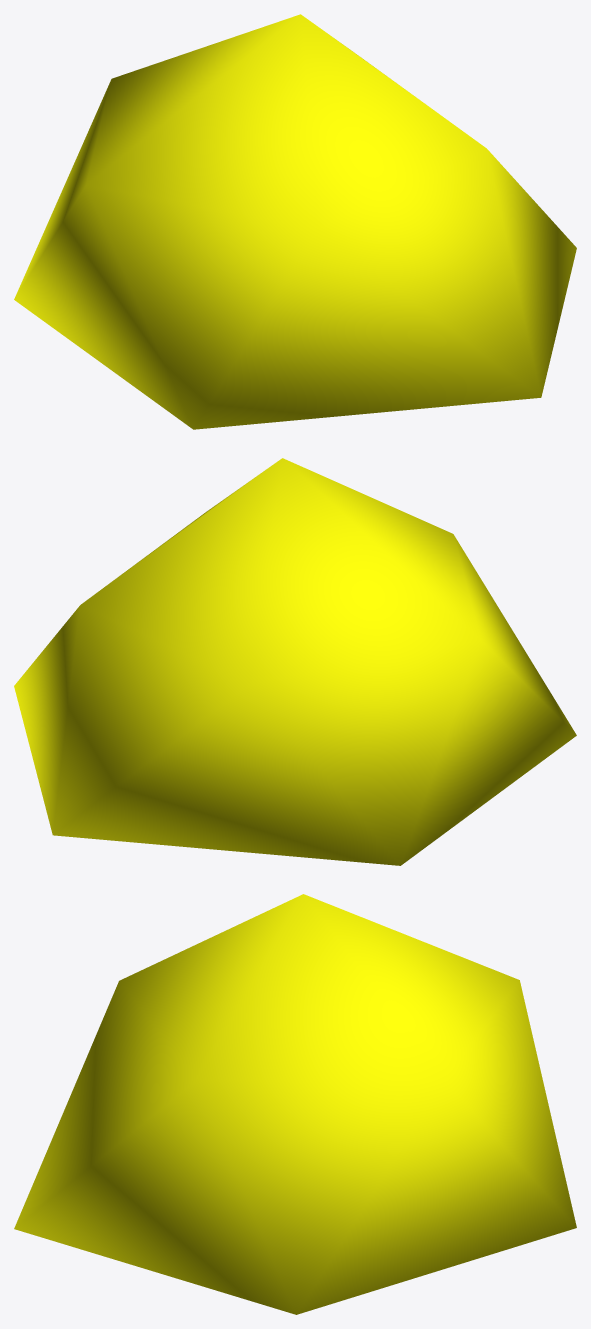
File: kaykit-trash-b.glb
The picture shows the model from 3 angles, top to bottom: view 1: azimuth 30°, elevation 25°; view 2: azimuth 150°, elevation 25°; view 3: azimuth 270°, elevation 25°; orthographic projection. The views are drawn at different scales.
Parts seen in each view (by area): view 1: trash_B; view 2: trash_B; view 3: trash_B.
Boxes of the visible parts, <box> form: trash_B: <box>14,14,576,429</box>; trash_B: <box>14,458,576,865</box>; trash_B: <box>14,894,576,1314</box>.
Size of the model in its own units: 0.0681 by 0.0404 by 0.0708.
